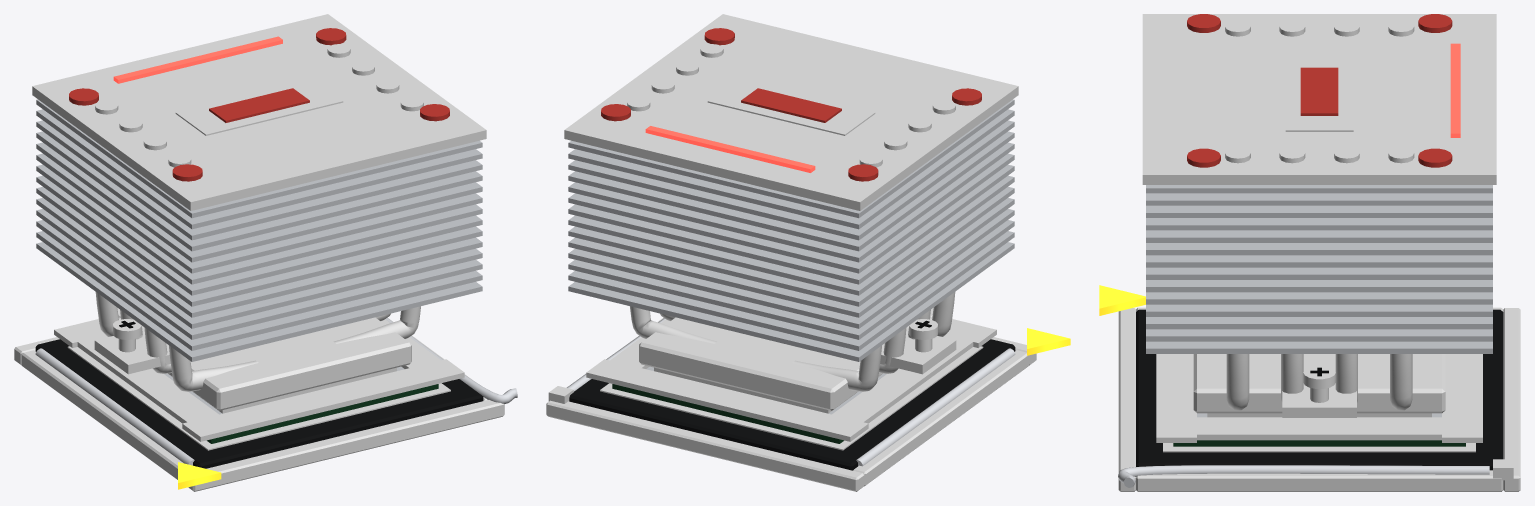
File: hwm_cpu_tr_7970x.glb
The picture shows the model from 3 angles, left to right: view 1: azimuth 30°, elevation 25°; view 2: azimuth 150°, elevation 25°; view 3: azimuth 270°, elevation 25°; orthographic projection. The views are drawn at different scales.
Parts seen in each view (by area): view 1: Cooler, Socket, Frame, CPU, Screw_0, Lever; view 2: Cooler, Socket, Frame, CPU, Screw_0; view 3: Cooler, Socket, Frame, Lever, CPU, Screw_1.
Part boxes in pixels (<box>): Cooler: <box>32,14,486,410</box>; Socket: <box>14,320,504,491</box>; Frame: <box>54,319,464,441</box>; CPU: <box>164,366,438,443</box>; Screw_0: <box>113,319,141,352</box>; Lever: <box>385,317,517,403</box>; Cooler: <box>564,14,1018,410</box>; Socket: <box>546,317,1070,491</box>; Frame: <box>586,319,996,441</box>; CPU: <box>612,366,886,443</box>; Screw_0: <box>909,319,937,352</box>; Cooler: <box>1142,14,1496,417</box>; Socket: <box>1099,285,1520,491</box>; Frame: <box>1156,354,1482,442</box>; Lever: <box>1118,465,1489,487</box>; CPU: <box>1173,413,1465,446</box>; Screw_1: <box>1303,365,1335,402</box>.
Bounding box in the file's own units: 0.1338 × 0.1036 × 0.1239.
